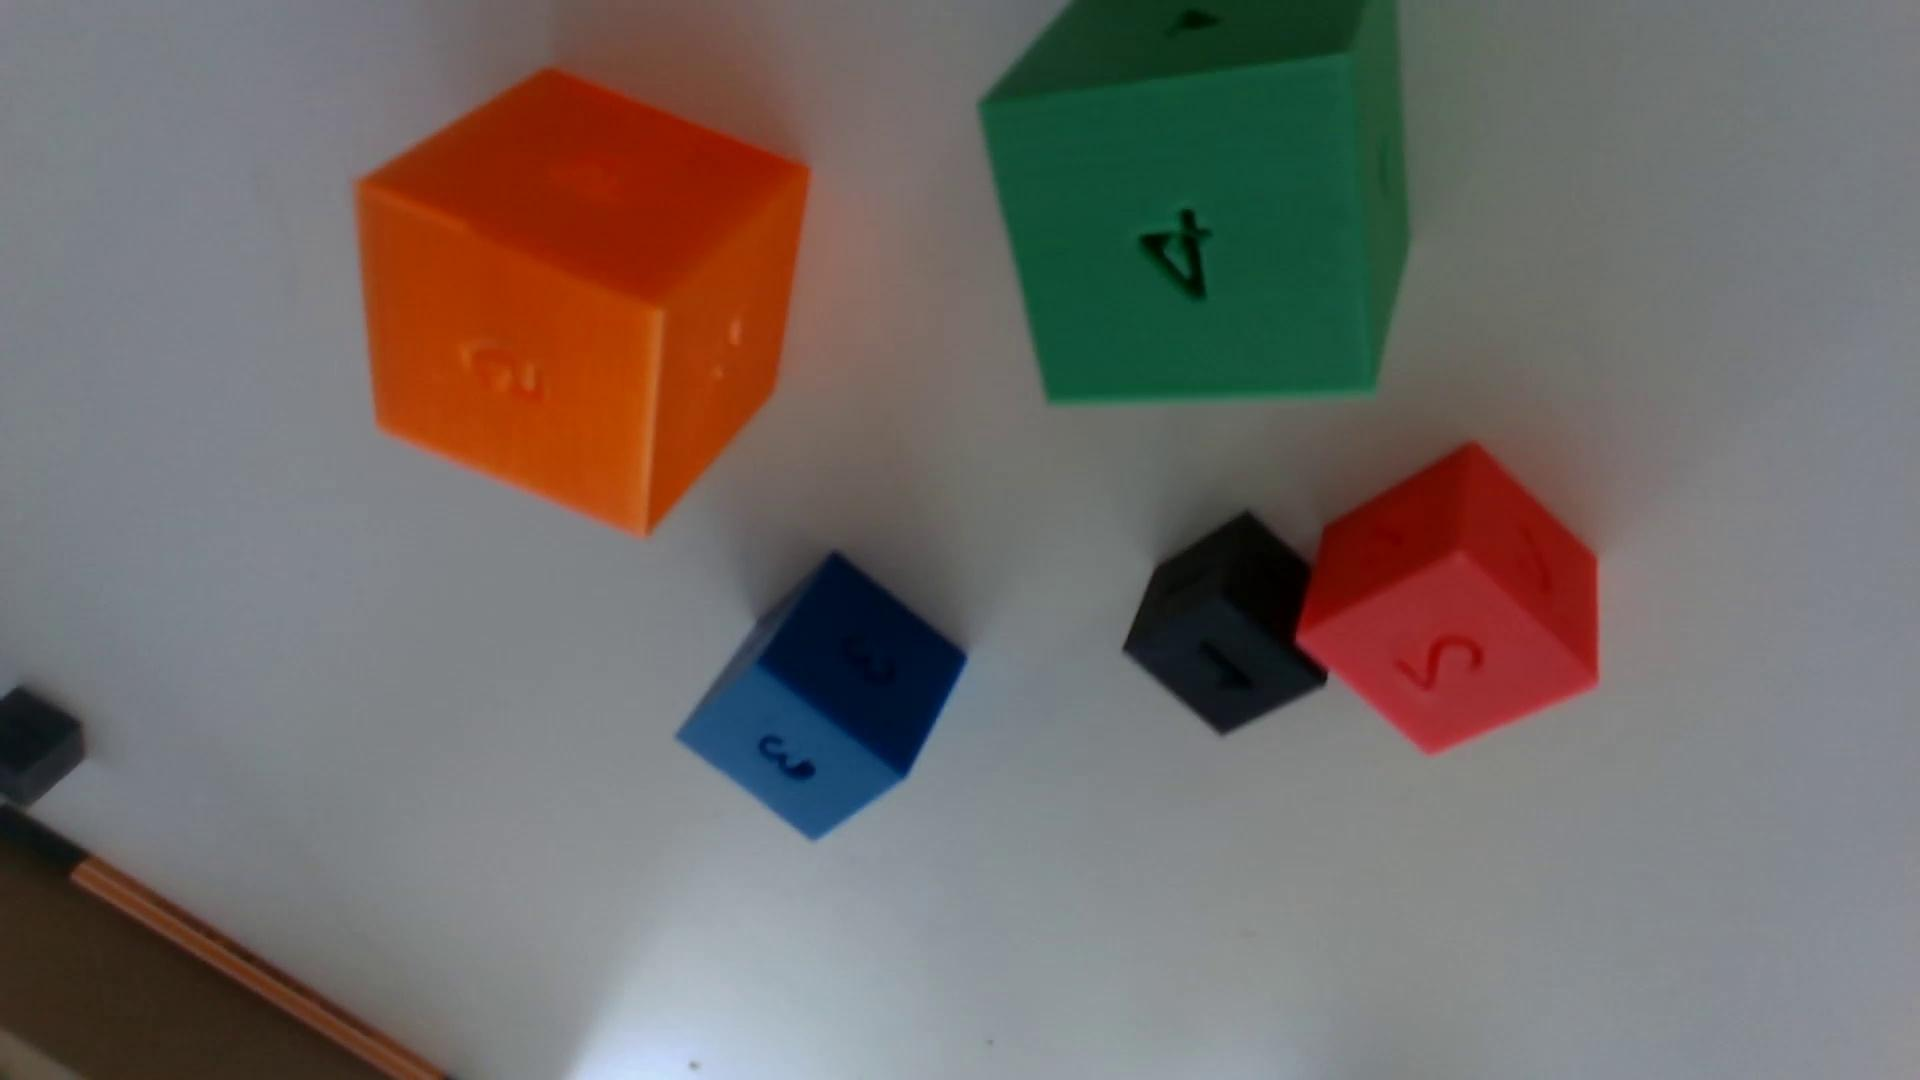black: (1124, 512, 1327, 733)
blue: (678, 553, 967, 839)
green: (980, 0, 1408, 402)
orange: (356, 69, 808, 534)
red: (1298, 444, 1600, 752)
